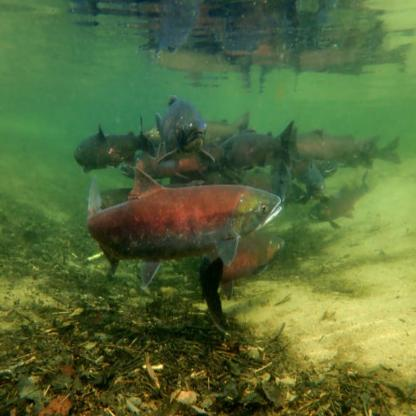sockeye: (90, 180, 279, 264)
sockeye-group: (75, 100, 394, 267)
